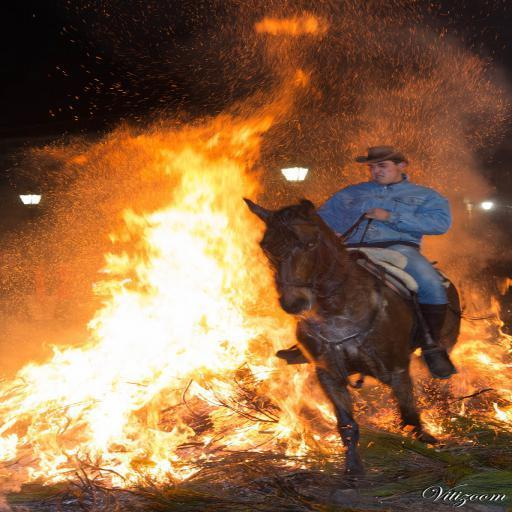horse: (242, 196, 464, 476)
